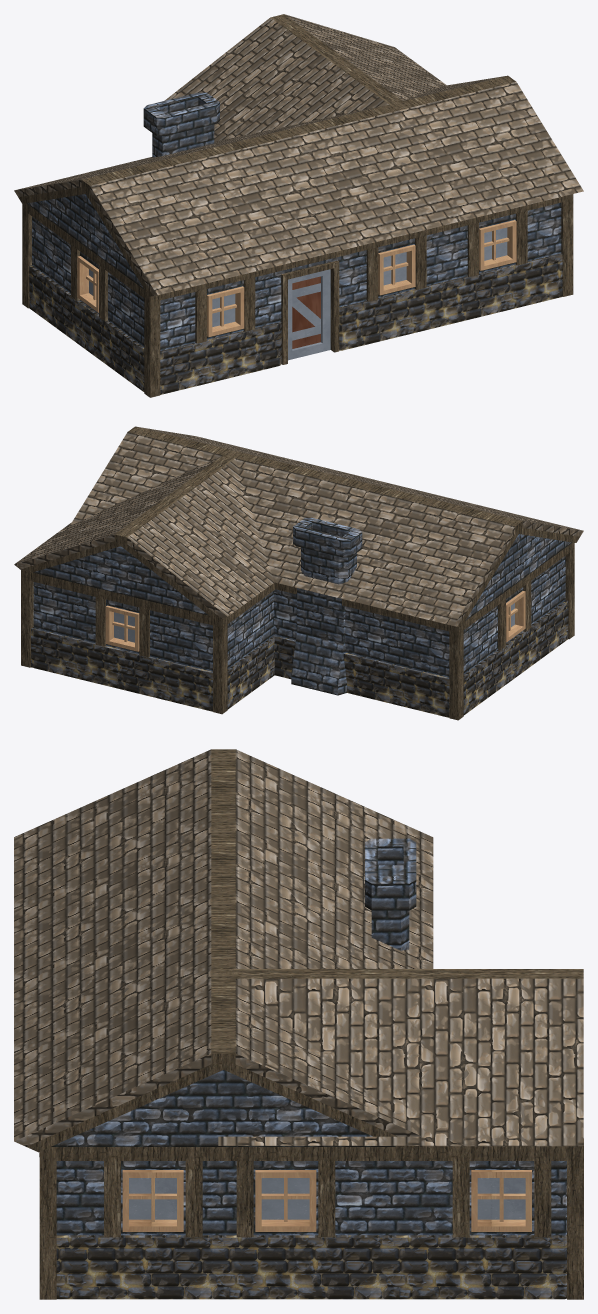
Rendered from House L.fbx.
3 renders of one model, top to bottom at view 1: azimuth 30°, elevation 25°; view 2: azimuth 150°, elevation 25°; view 3: azimuth 270°, elevation 25°, orthographic. The views are drawn at different scales.
Parts seen in each view (by area): view 1: mergedBlocks; view 2: mergedBlocks; view 3: mergedBlocks.
Part boxes in pixels (box(x1,y1,x2,y2)): mergedBlocks: box(14, 14, 583, 397); mergedBlocks: box(14, 426, 583, 720); mergedBlocks: box(14, 749, 583, 1299).
Size of the model in its own units: 42.92 by 16.06 by 33.52.
